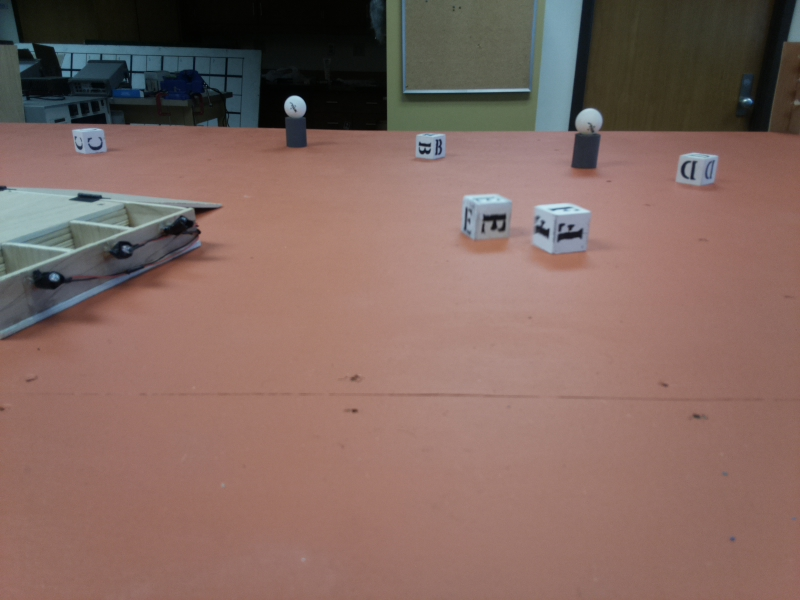blockB: (413, 128, 448, 159)
blockC: (73, 125, 107, 158)
blockD: (673, 150, 721, 188)
blockE: (458, 193, 513, 243)
blockF: (530, 203, 594, 256)
obstacle: (572, 106, 605, 178), (279, 93, 310, 151)
side: (18, 210, 196, 315)
